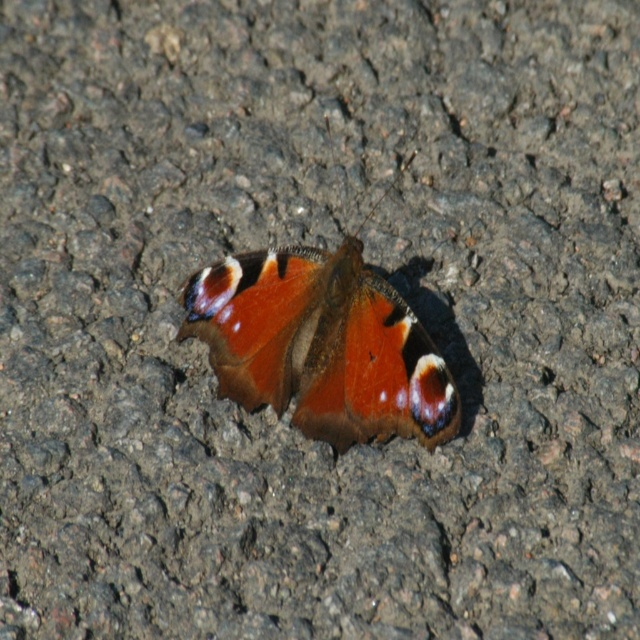Butterfly: (175, 113, 460, 459)
